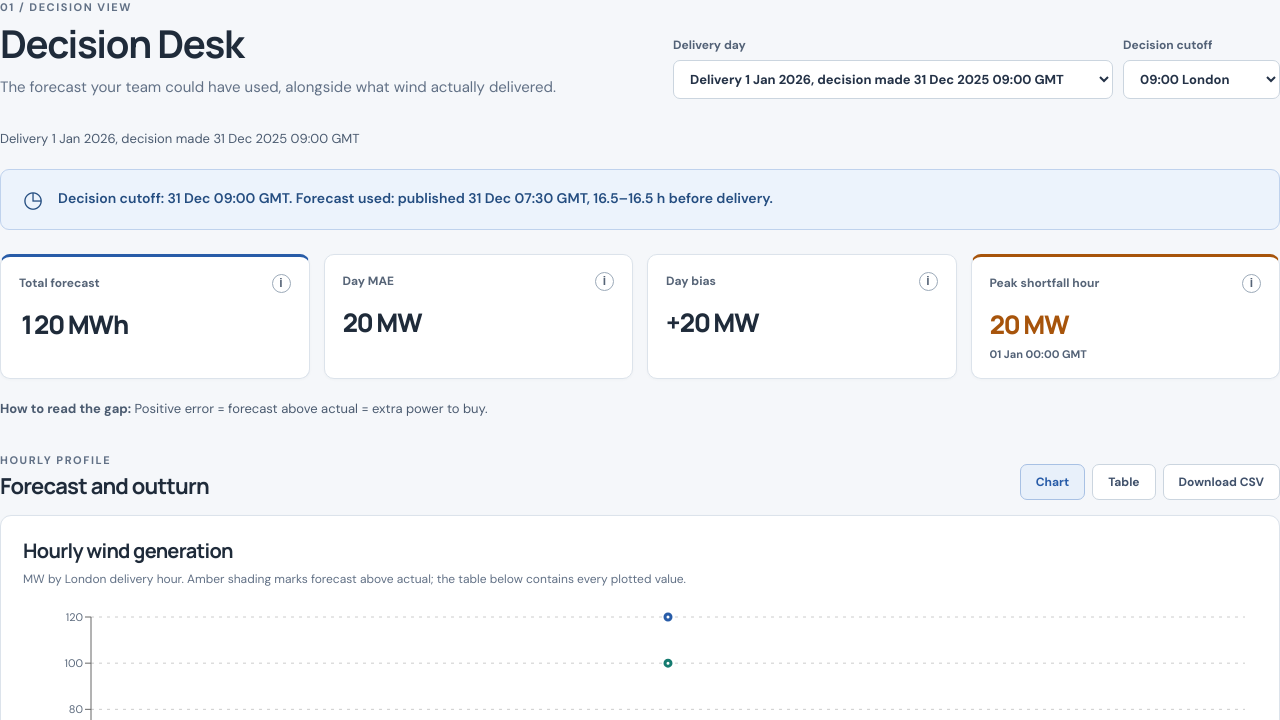
Scenario: renders API-backed KPIs, sign convention, banner and hourly table
This screenshot has width=1280, height=720.
Expected: the text "Positive error = forecast above actual = extra power to buy." is shown, [135, 400, 488, 416]
Expected: the text "120 MWh" is shown, [19, 306, 128, 342]
Click the button "Table": (1124, 482) [1092, 464, 1156, 500]
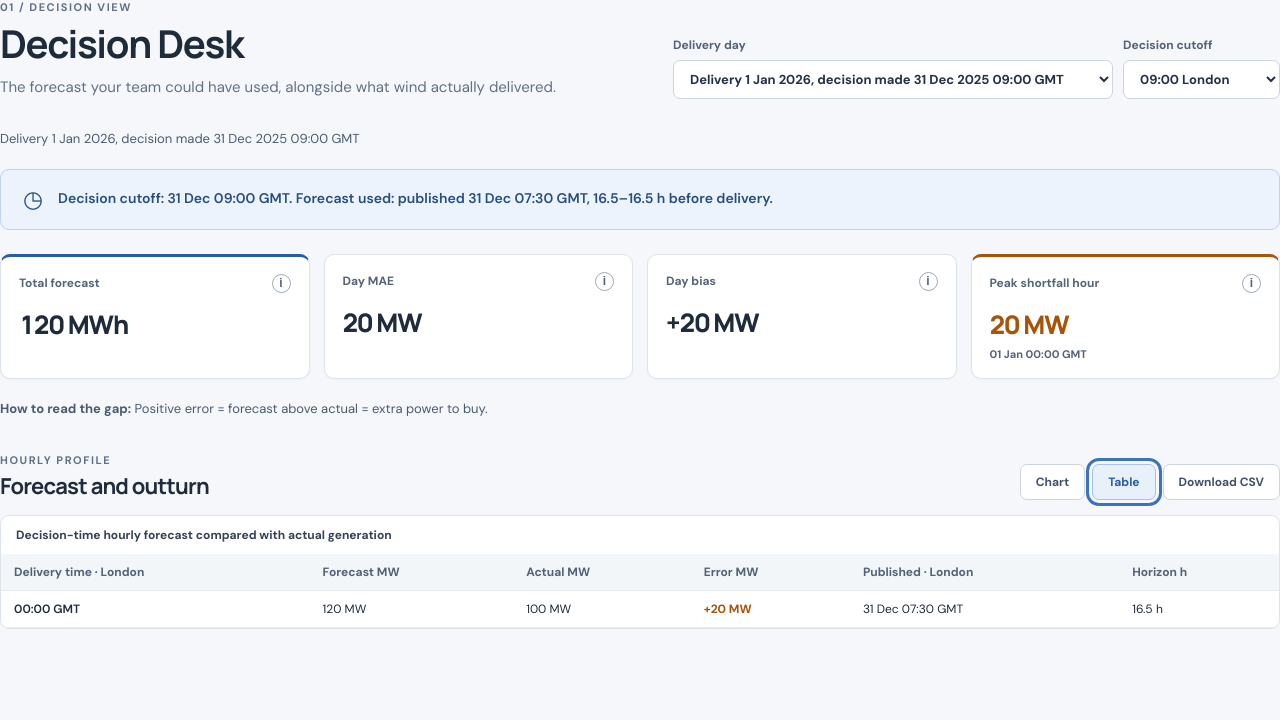
Now the table "Decision-time hourly forecast" is shown, box [1, 516, 1279, 628]
Now the cell "+20 MW" is shown, box [691, 591, 850, 628]
